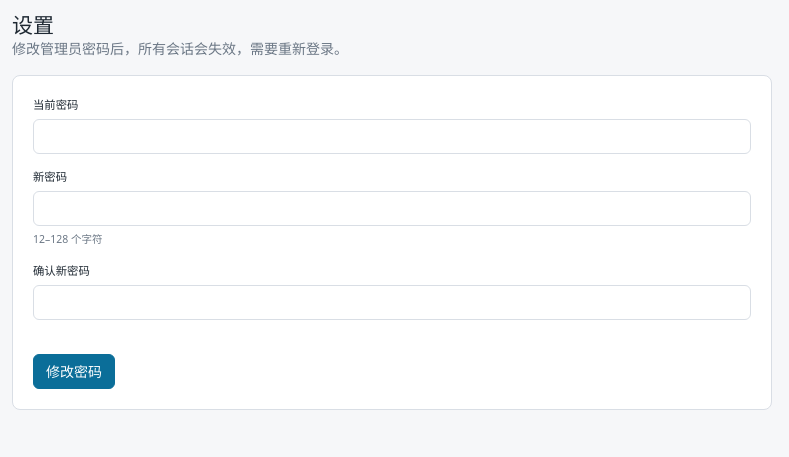
SettingsView › requires the current password
Type "new-password-123" into the password field with id "new-password". click: (392, 209)
box: [33, 191, 751, 226]
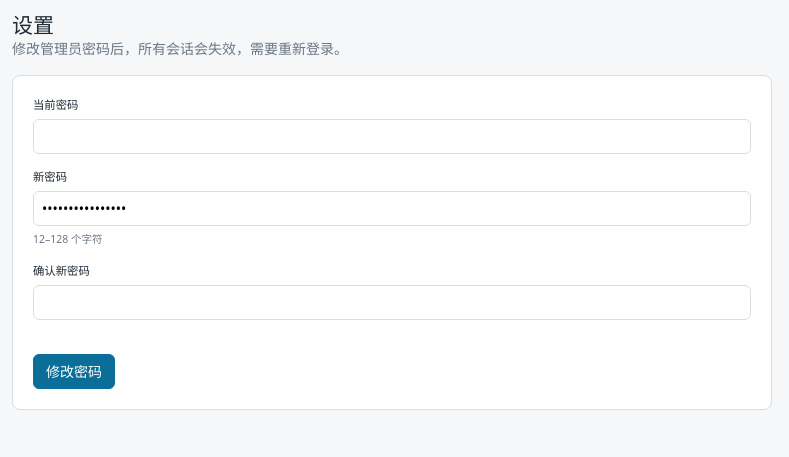
Type "new-password-123" into the password field with id "confirm-password". click: (392, 303)
box: [33, 285, 751, 320]
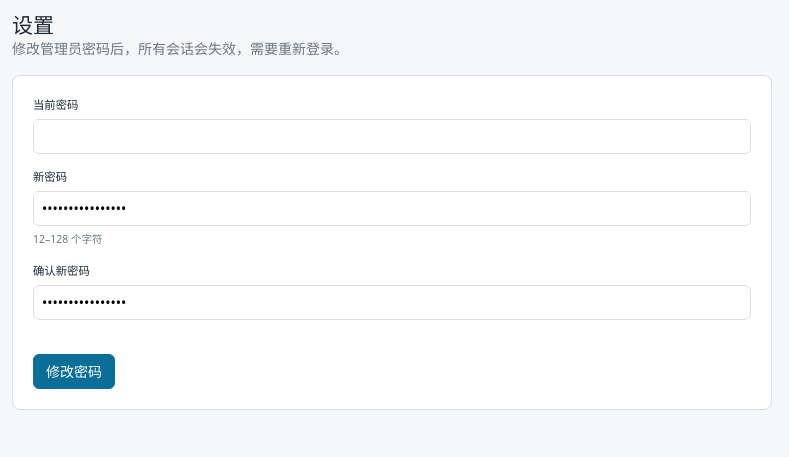
Submit the form
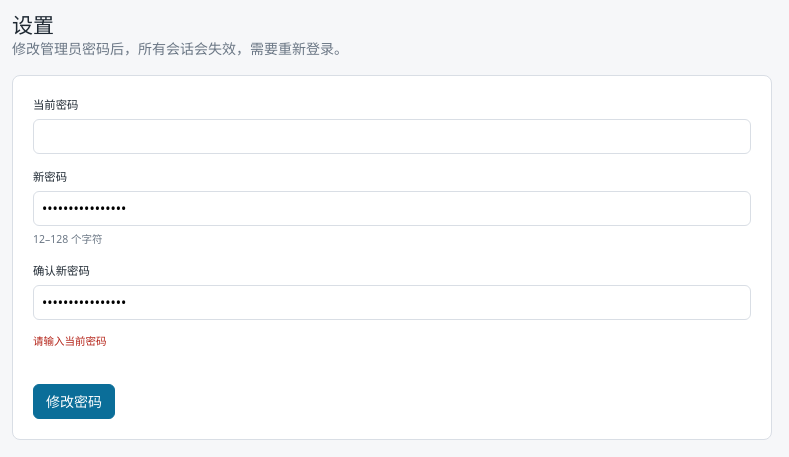
Result: the text "请输入当前密码" is shown at [33, 334, 106, 348]
